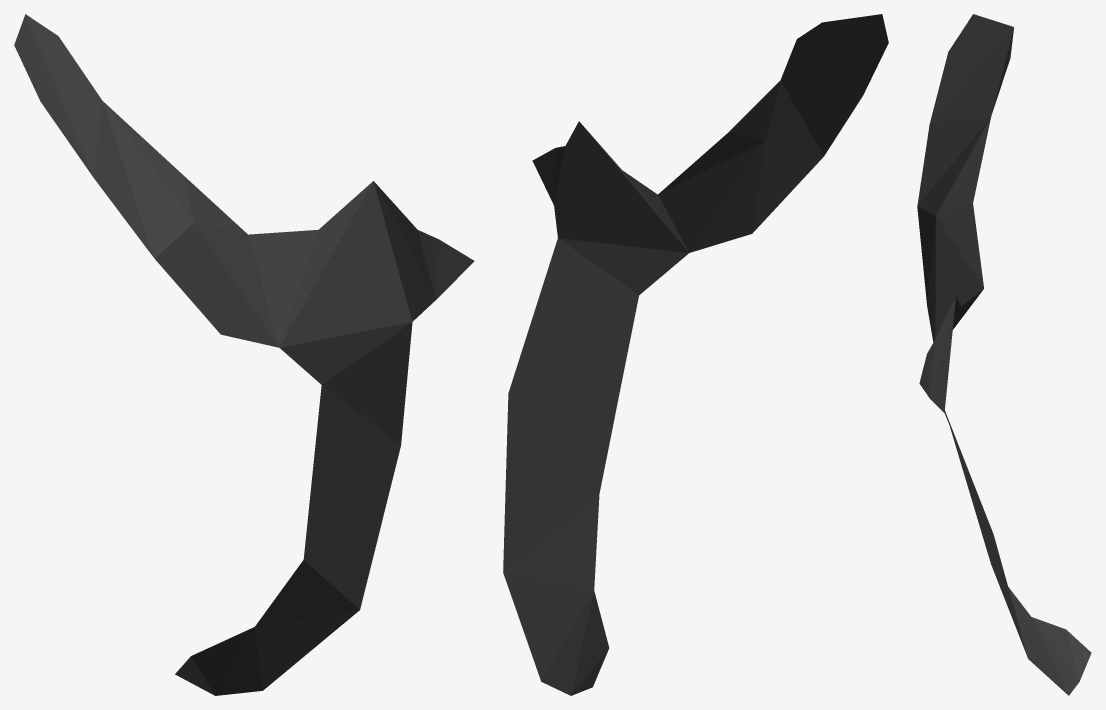
The model's file is A_unused9_Group12317.glb.
The picture shows the model from 3 angles, left to right: view 1: azimuth 30°, elevation 25°; view 2: azimuth 150°, elevation 25°; view 3: azimuth 270°, elevation 25°; orthographic projection. The views are drawn at different scales.
Visible parts, largest first — view 1: A_unused9_Group12317; view 2: A_unused9_Group12317; view 3: A_unused9_Group12317.
Part boxes in pixels (x1=…): A_unused9_Group12317: x1=14, y1=14, x2=474, y2=695; A_unused9_Group12317: x1=503, y1=14, x2=888, y2=695; A_unused9_Group12317: x1=917, y1=14, x2=1091, y2=695.
Bounding box in the file's own units: 0.00619 × 0.0108 × 0.00298.
Materials: 1 (1 with a texture image).
